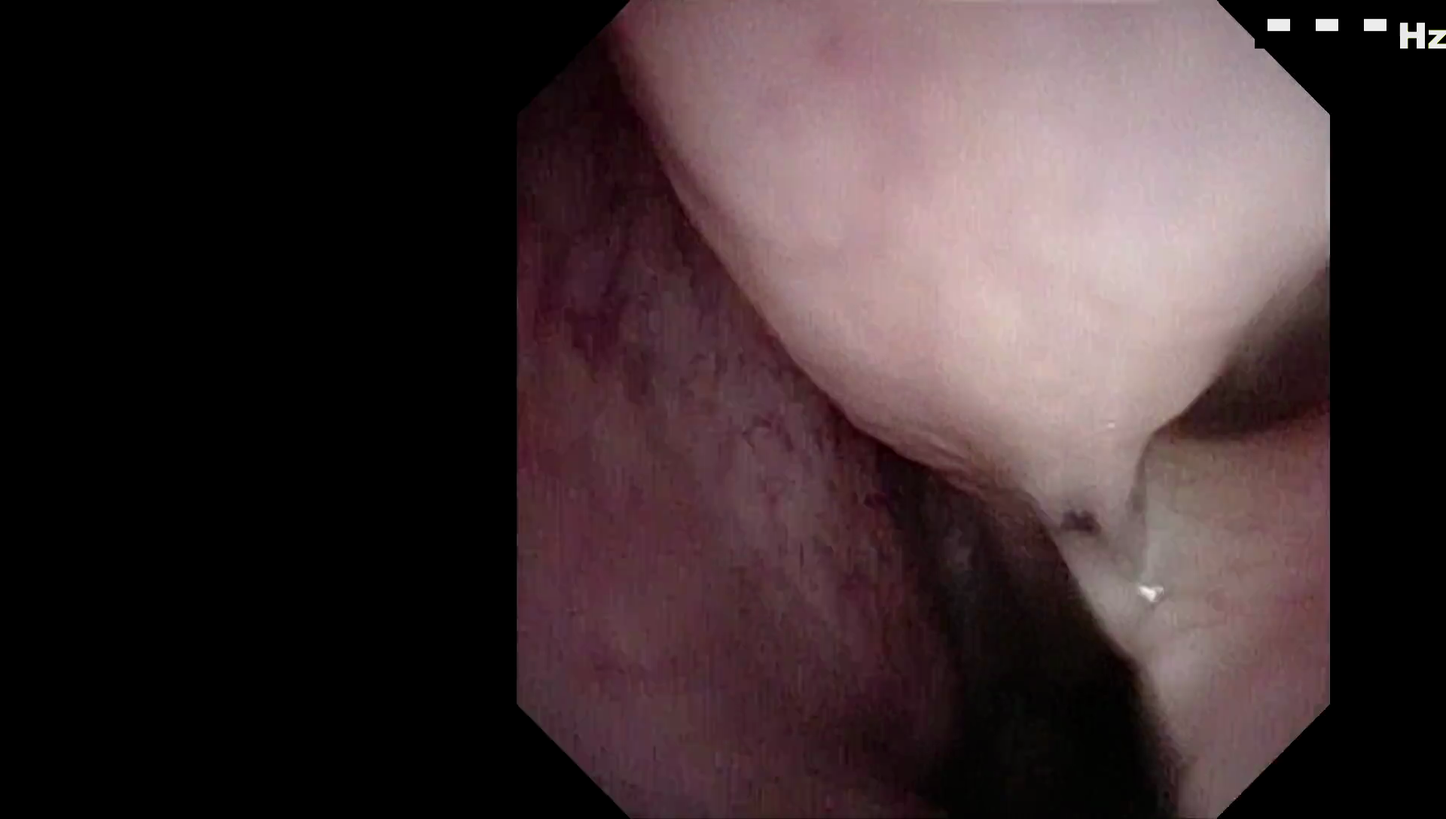next: (874, 476, 1189, 819)
